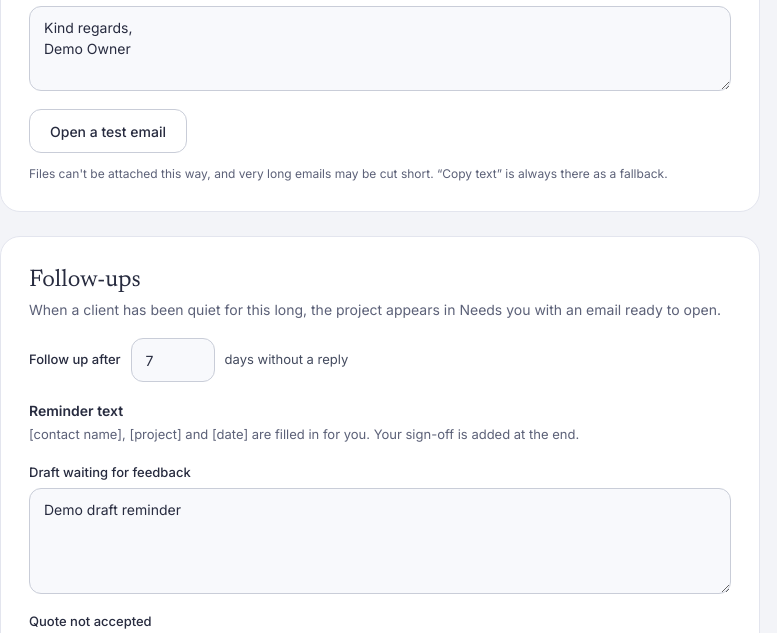
it: SettingsView › does not save days of 31 and shows the message on the field
(page scrolled)
Step 1. Replace the text in the number field labelled "Follow up after" with "31" → {"x": 173, "y": 360}, box [131,338,215,382]
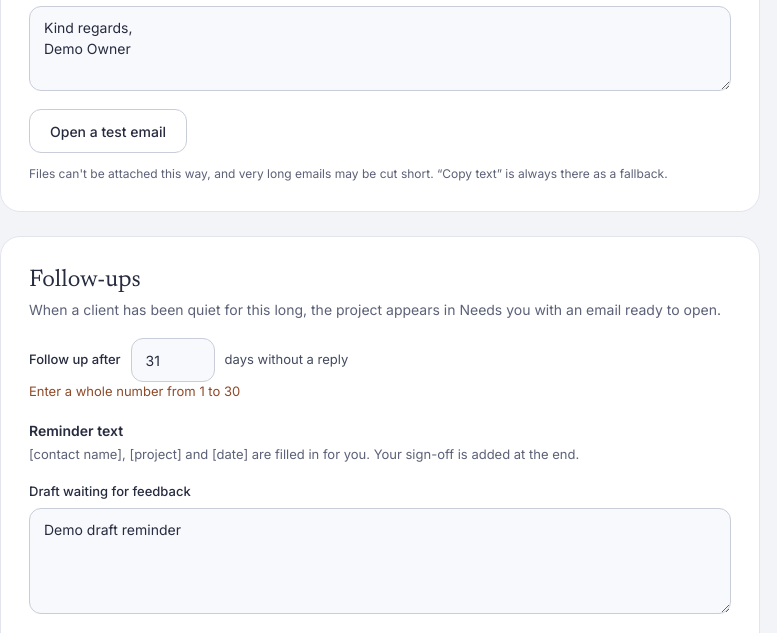
Step 2. Replace the text in the number field labelled "Follow up after" with "12" → {"x": 173, "y": 360}, box [131,338,215,382]
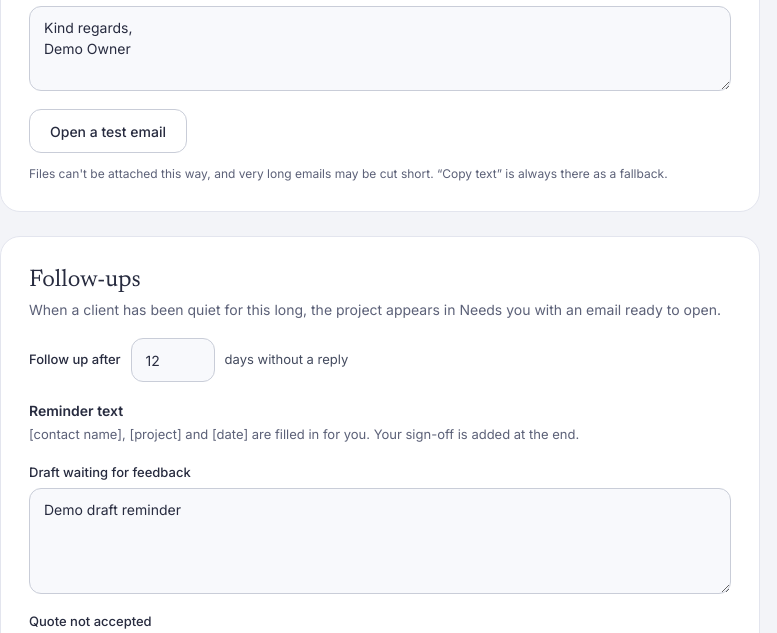
expect the text "Enter a whole number from 1 to 30" is gone: met
